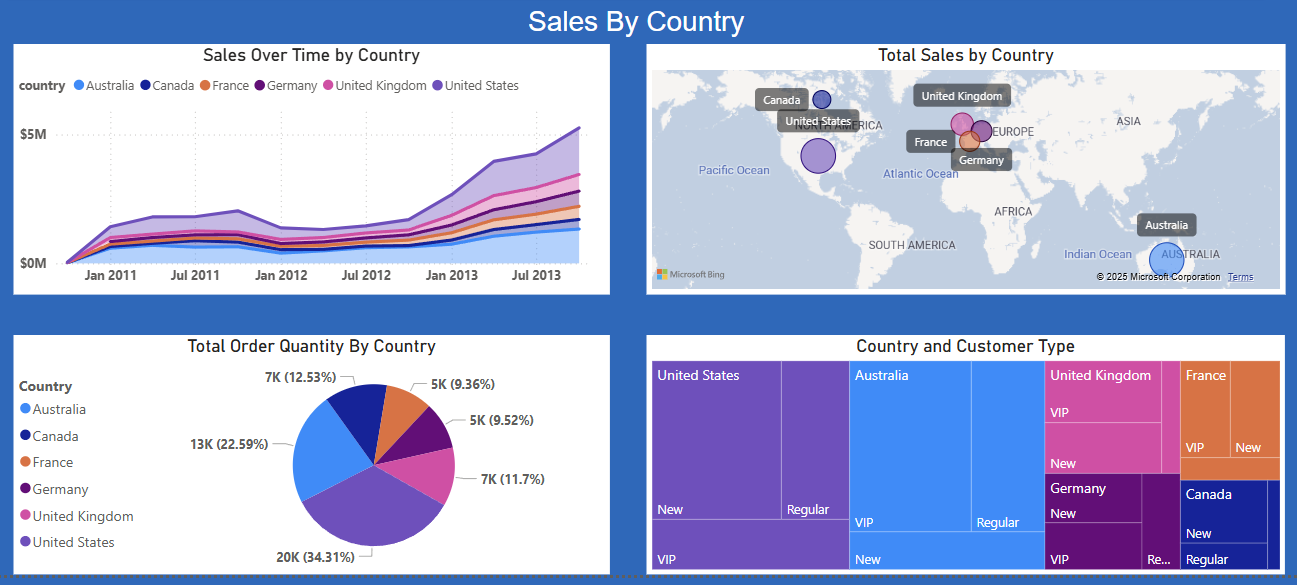

The dashboard page shown, as its layout file describes it:
{"tool":"powerbi","page":{"name":"Region Analysis","canvas":[1280,720],"ordinal":4},"visuals":[{"type":"shape","box":[0,0,1280.4,172.7],"z":0},{"type":"shape","box":[27.8,13.9,157.6,139],"z":1000},{"type":"cardVisual","fields":{"Data":["Sum(gold fact_sales.price)"]},"box":[27.8,13.9,157.6,139],"z":2000},{"type":"textbox","box":[156.4,16.2,458.9,134.4],"z":3000},{"type":"slicer","fields":{"Values":["gold dim_customers.country"]},"box":[195.8,91.5,151.8,61.4],"z":4000},{"type":"slicer","fields":{"Values":["gold dim_customers.gender"]},"box":[358,91.5,120.5,61.4],"z":5000},{"type":"slicer","fields":{"Values":["gold dim_customers.Customer Group"]},"box":[487.8,91.5,151.8,61.4],"z":6000},{"type":"slicer","fields":{"Values":["gold dim_products.category"]},"box":[803,92.7,165.7,60.3],"z":7000},{"type":"slicer","fields":{"Values":["gold dim_products.Product Group"]},"box":[650,91.5,143.7,61.4],"z":8000},{"type":"slicer","fields":{"Values":["gold dim_products.subcategory"]},"box":[976.8,92.7,151.8,61.4],"z":9000},{"type":"slicer","fields":{"Values":["gold fact_sales.order_date.Variation.Date Hierarchy.Year"]},"box":[1139,92.7,119.3,61.4],"z":10000},{"type":"textbox","box":[684.8,18.5,434.5,74.2],"z":11000},{"type":"textbox","box":[0,172.7,1280.4,41.7],"z":12000},{"type":"map","title":"Total Sales by Country","fields":{"Category":["gold dim_customers.country"],"Size":["gold fact_sales.Total Sales"],"Series":["gold dim_customers.country"]},"box":[650,214.4,608.3,238.7],"z":13000},{"type":"stackedAreaChart","title":"Sales Over Time  by Country","fields":{"Y":["gold fact_sales.Total Sales"],"Category":["gold fact_sales.order_date.Variation.Date Hierarchy.Year","gold fact_sales.order_date.Variation.Date Hierarchy.Quarter"],"Series":["gold dim_customers.country"]},"box":[47.5,214.4,567.8,238.7],"z":14000},{"type":"pieChart","title":"Total Order Quantity By Country","fields":{"Series":["gold dim_customers.country"],"Y":["gold fact_sales.Total Quantity"]},"box":[47.5,491.3,567.8,228.3],"z":15000},{"type":"treemap","title":"Country and Customer Type","fields":{"Group":["gold dim_customers.country"],"Values":["gold fact_sales.Total Sales"],"Details":["gold dim_customers.Customer Group"]},"box":[650,491,608,228],"z":16000}]}

Visuals, with their boxes on the page's 1280x720 design canvas (x1, y1, x2, y2). These are canvas units, not pixel positions in the 1297x585 screenshot, which may show the page scaled, cropped or inside an application window:
shape: bbox(0, 0, 1280, 173)
shape: bbox(28, 14, 185, 153)
cardVisual - Sum(gold fact_sales.price): bbox(28, 14, 185, 153)
textbox: bbox(156, 16, 615, 151)
slicer - gold dim_customers.country: bbox(196, 92, 348, 153)
slicer - gold dim_customers.gender: bbox(358, 92, 478, 153)
slicer - gold dim_customers.Customer Group: bbox(488, 92, 640, 153)
slicer - gold dim_products.category: bbox(803, 93, 969, 153)
slicer - gold dim_products.Product Group: bbox(650, 92, 794, 153)
slicer - gold dim_products.subcategory: bbox(977, 93, 1129, 154)
slicer - gold fact_sales.order_date.Variation.Date Hierarchy.Year: bbox(1139, 93, 1258, 154)
textbox: bbox(685, 18, 1119, 93)
textbox: bbox(0, 173, 1280, 214)
"Total Sales by Country" map: bbox(650, 214, 1258, 453)
"Sales Over Time  by Country" stackedAreaChart: bbox(48, 214, 615, 453)
"Total Order Quantity By Country" pieChart: bbox(48, 491, 615, 720)
"Country and Customer Type" treemap: bbox(650, 491, 1258, 719)
